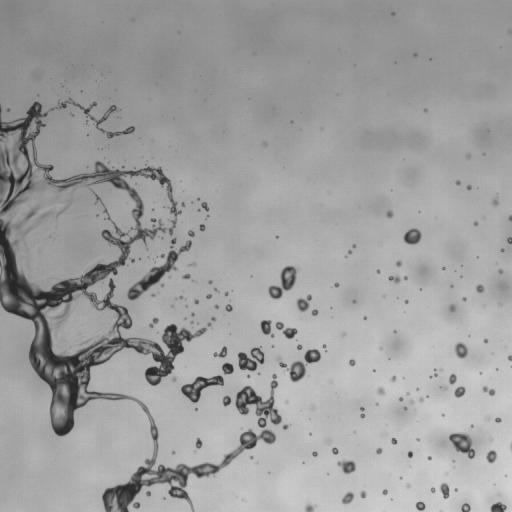droplet: (276, 350, 320, 382), (449, 432, 475, 458), (237, 347, 264, 371), (403, 228, 421, 244), (296, 294, 311, 312), (337, 459, 355, 474), (260, 320, 274, 337), (454, 342, 467, 358), (439, 482, 449, 498), (213, 346, 227, 357), (342, 492, 354, 504), (490, 502, 506, 511), (486, 450, 497, 463), (222, 362, 233, 374), (454, 386, 465, 397), (222, 395, 231, 406), (149, 317, 158, 327), (416, 501, 425, 511), (305, 503, 315, 511), (389, 276, 400, 283), (449, 373, 456, 384), (201, 202, 209, 211), (476, 284, 484, 293), (377, 386, 385, 395), (461, 503, 470, 511), (195, 438, 202, 448), (386, 210, 393, 218), (225, 304, 232, 311), (360, 490, 366, 498), (492, 198, 498, 205), (199, 224, 205, 231), (449, 304, 455, 311), (311, 309, 318, 315), (349, 359, 355, 366), (390, 438, 397, 444), (332, 447, 338, 454), (182, 274, 190, 279), (188, 230, 194, 236), (390, 375, 396, 381), (376, 448, 382, 454), (396, 260, 401, 267), (495, 417, 501, 422), (282, 424, 288, 429), (407, 451, 412, 457), (188, 262, 195, 266), (206, 294, 211, 299), (297, 344, 302, 349), (312, 451, 317, 456), (382, 489, 387, 494), (507, 237, 511, 243), (507, 355, 511, 361), (456, 180, 460, 185), (466, 185, 471, 189), (334, 282, 338, 287), (194, 299, 198, 304), (211, 317, 216, 321), (409, 399, 413, 404), (406, 483, 410, 488), (431, 487, 435, 492), (146, 491, 150, 496), (508, 215, 511, 221), (466, 155, 470, 159), (498, 269, 502, 273), (403, 276, 407, 280), (179, 295, 183, 299), (462, 297, 466, 301), (214, 304, 218, 308), (483, 339, 487, 343), (172, 377, 176, 381), (443, 386, 447, 390), (399, 397, 403, 401), (419, 397, 423, 401), (427, 456, 431, 460), (181, 202, 184, 207), (263, 142, 266, 146), (474, 221, 477, 225), (352, 244, 355, 248), (376, 270, 380, 273), (208, 280, 212, 283), (151, 293, 154, 297), (352, 300, 356, 303), (433, 373, 437, 376), (246, 374, 250, 377), (391, 12, 394, 15), (413, 53, 416, 56), (348, 250, 351, 253), (214, 288, 217, 291), (225, 292, 228, 295), (405, 300, 408, 303), (342, 332, 345, 335), (323, 345, 326, 348), (406, 392, 409, 395), (7, 108, 9, 112), (424, 109, 427, 111), (276, 235, 278, 238), (501, 248, 503, 251), (161, 283, 163, 286), (191, 313, 194, 315), (486, 417, 489, 419), (470, 425, 473, 427), (417, 438, 419, 441), (172, 451, 175, 453), (250, 456, 252, 459), (442, 267, 444, 269), (171, 305, 173, 307), (394, 330, 396, 332), (285, 400, 287, 402), (375, 403, 377, 405), (404, 407, 406, 409), (195, 408, 197, 410), (455, 488, 457, 490)
ligament: (0, 105, 276, 511), (127, 237, 191, 300), (50, 97, 134, 138), (14, 199, 72, 236), (181, 375, 223, 402), (268, 265, 298, 299), (275, 322, 297, 339), (90, 189, 103, 204), (482, 386, 495, 395), (360, 407, 365, 418), (510, 443, 511, 450)
